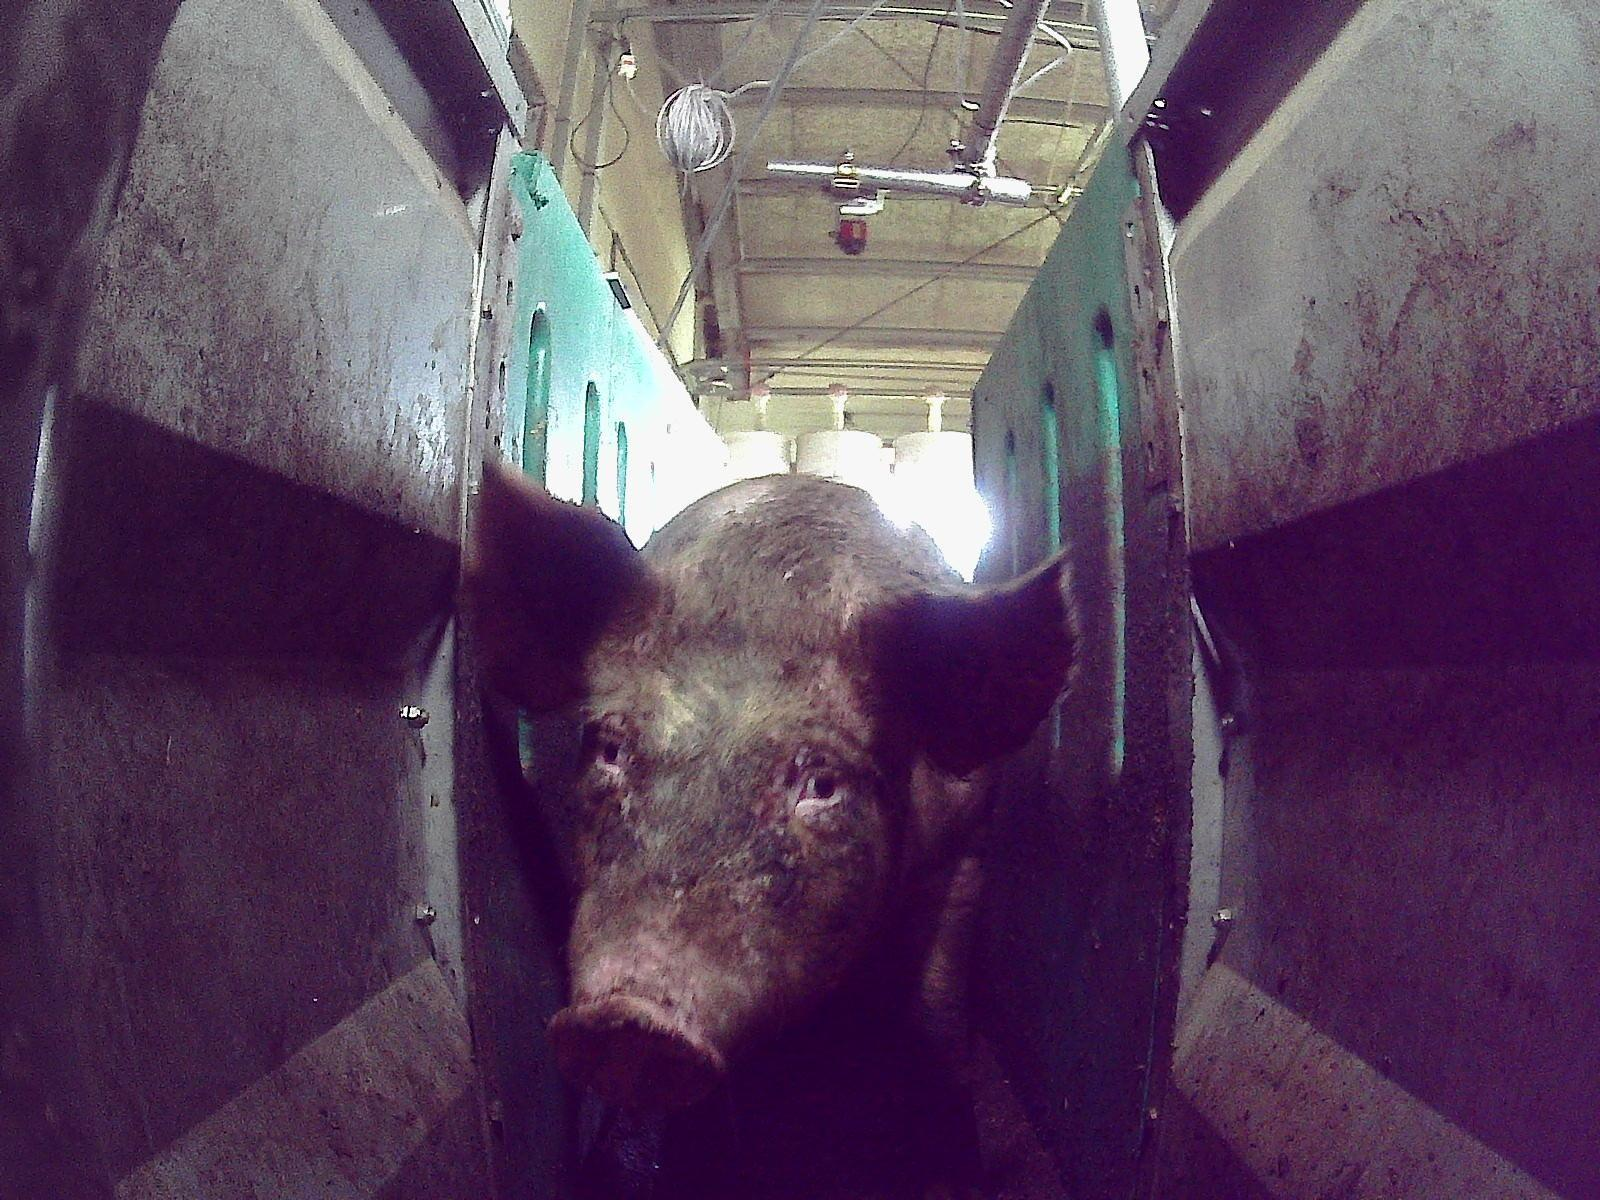Face: (547, 611, 881, 1112)
